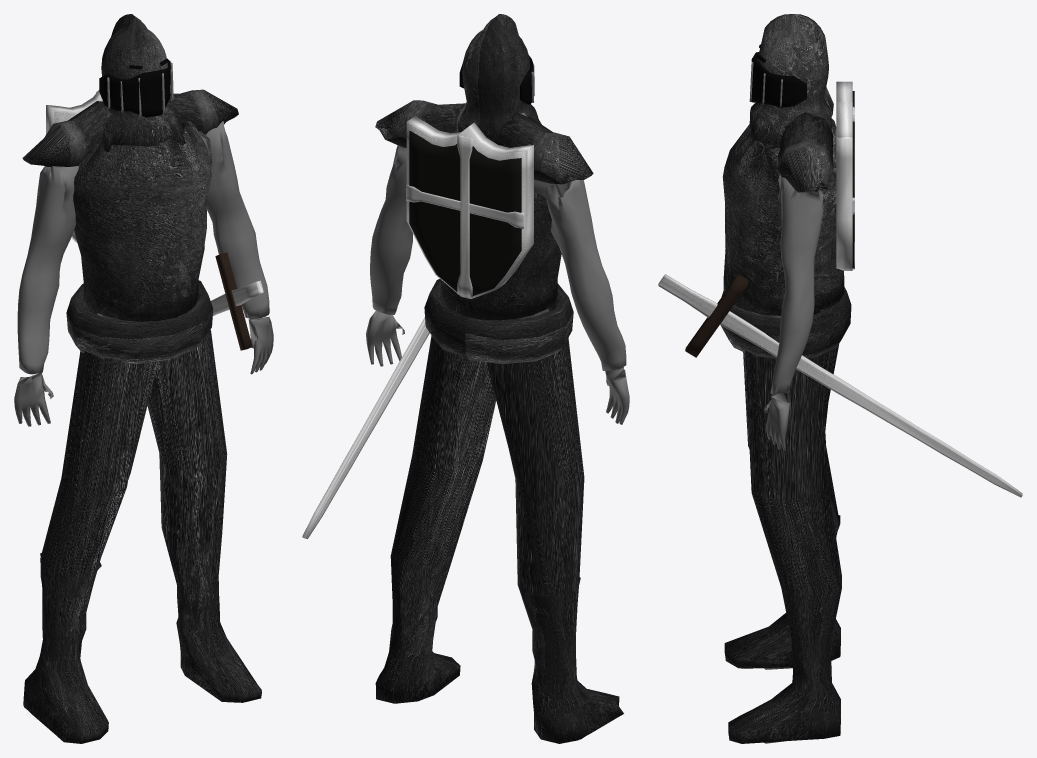
The model's file is KNIGHTMODEL.obj.
3 renders of one model, left to right at view 1: azimuth 30°, elevation 25°; view 2: azimuth 150°, elevation 25°; view 3: azimuth 270°, elevation 25°, orthographic.
Parts seen in each view (by area): view 1: Object003, Cylinder008, Object002, Cylinder003, Torus001, Sphere001, Cylinder005, Box003, Cylinder006, Box016, Object001, Box012 (+1 smaller); view 2: Object002, Object003, Cylinder003, Box013, Torus001, Sphere001, Cylinder008, Object001, Box012, Cylinder005, Box017, Cylinder006 (+2 smaller); view 3: Object002, Cylinder008, Cylinder003, Sphere001, Box017, Cylinder006, Box012, Torus001, Object003, Box003, Object001, Box016.
Boxes of the visible parts, bbox=[...] form: Object003: bbox=[24, 351, 158, 743]; Cylinder008: bbox=[73, 121, 211, 321]; Object002: bbox=[147, 329, 261, 702]; Cylinder003: bbox=[14, 110, 273, 642]; Torus001: bbox=[66, 280, 213, 363]; Sphere001: bbox=[101, 14, 185, 152]; Cylinder005: bbox=[22, 101, 109, 167]; Box003: bbox=[99, 58, 170, 117]; Cylinder006: bbox=[167, 89, 238, 134]; Box016: bbox=[215, 252, 252, 350]; Object001: bbox=[23, 553, 107, 730]; Box012: bbox=[46, 85, 170, 243]; Object002: bbox=[375, 319, 506, 703]; Object003: bbox=[486, 338, 623, 739]; Cylinder003: bbox=[366, 112, 629, 424]; Box013: bbox=[409, 131, 521, 295]; Torus001: bbox=[424, 279, 573, 363]; Sphere001: bbox=[457, 14, 541, 142]; Cylinder008: bbox=[441, 190, 561, 320]; Object001: bbox=[525, 577, 609, 743]; Box012: bbox=[406, 116, 533, 298]; Cylinder005: bbox=[494, 112, 593, 184]; Box017: bbox=[302, 317, 429, 538]; Cylinder006: bbox=[375, 100, 466, 147]; Object002: bbox=[728, 344, 841, 743]; Cylinder008: bbox=[722, 118, 844, 315]; Cylinder003: bbox=[749, 174, 823, 743]; Sphere001: bbox=[748, 14, 832, 146]; Box017: bbox=[658, 274, 1022, 497]; Cylinder006: bbox=[778, 112, 832, 192]; Box012: bbox=[836, 81, 852, 270]; Torus001: bbox=[720, 287, 851, 359]; Object003: bbox=[724, 310, 838, 668]; Box003: bbox=[751, 52, 806, 107]; Object001: bbox=[740, 515, 840, 668]; Box016: bbox=[685, 274, 749, 357].
Bounding box in the file's own units: 26.14 × 65.8 × 31.86.
